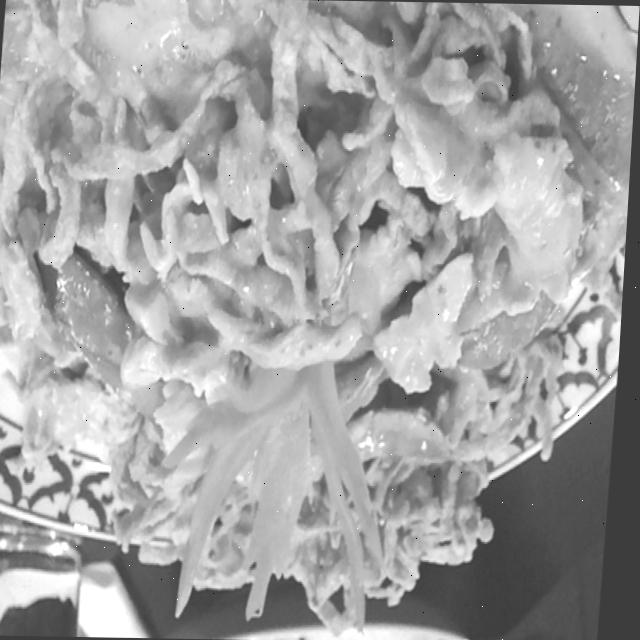面条主食: (0, 18, 616, 604)
